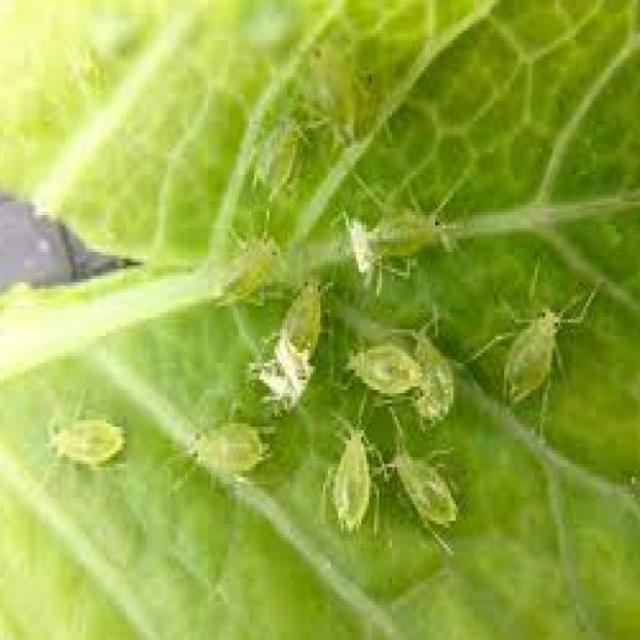Aphids: (170, 27, 610, 547), (24, 386, 150, 506)
